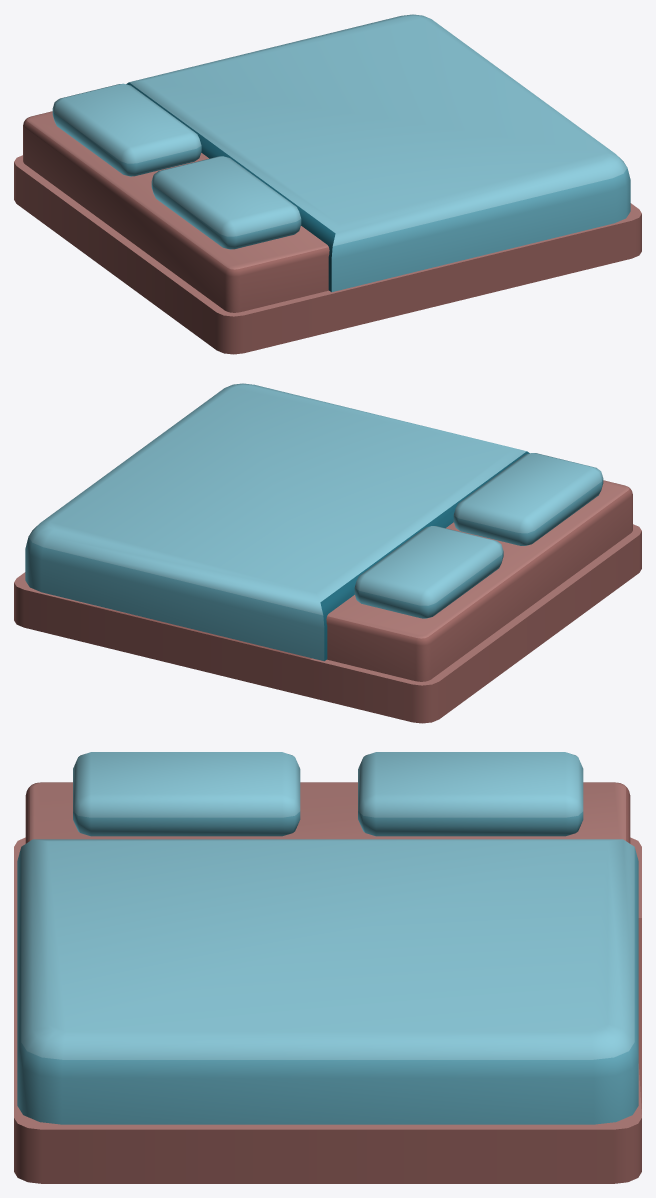
Rendered from 3d_Bed.fbx.
3 renders of one model, top to bottom at view 1: azimuth 30°, elevation 25°; view 2: azimuth 150°, elevation 25°; view 3: azimuth 270°, elevation 25°, orthographic. The views are drawn at different scales.
Visible parts, largest first — view 1: 3d_bed; view 2: 3d_bed; view 3: 3d_bed.
Boxes of the visible parts, x1,y1,x2,y2 form: 3d_bed: (14, 14, 641, 354); 3d_bed: (14, 383, 641, 723); 3d_bed: (14, 752, 641, 1183).
Bounding box in the file's own units: 2 × 0.5 × 1.8.
